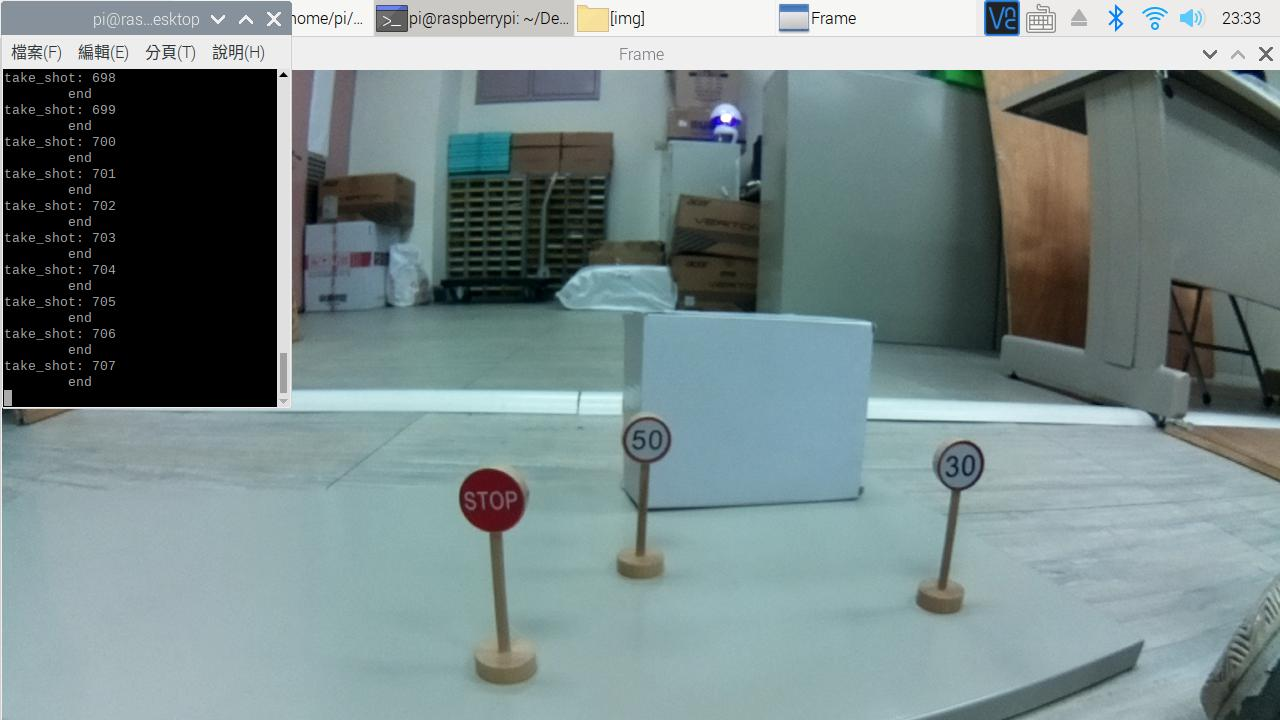Speed30: (921, 425, 1006, 505)
Speed50: (611, 409, 685, 469)
Stop: (447, 459, 537, 542)
